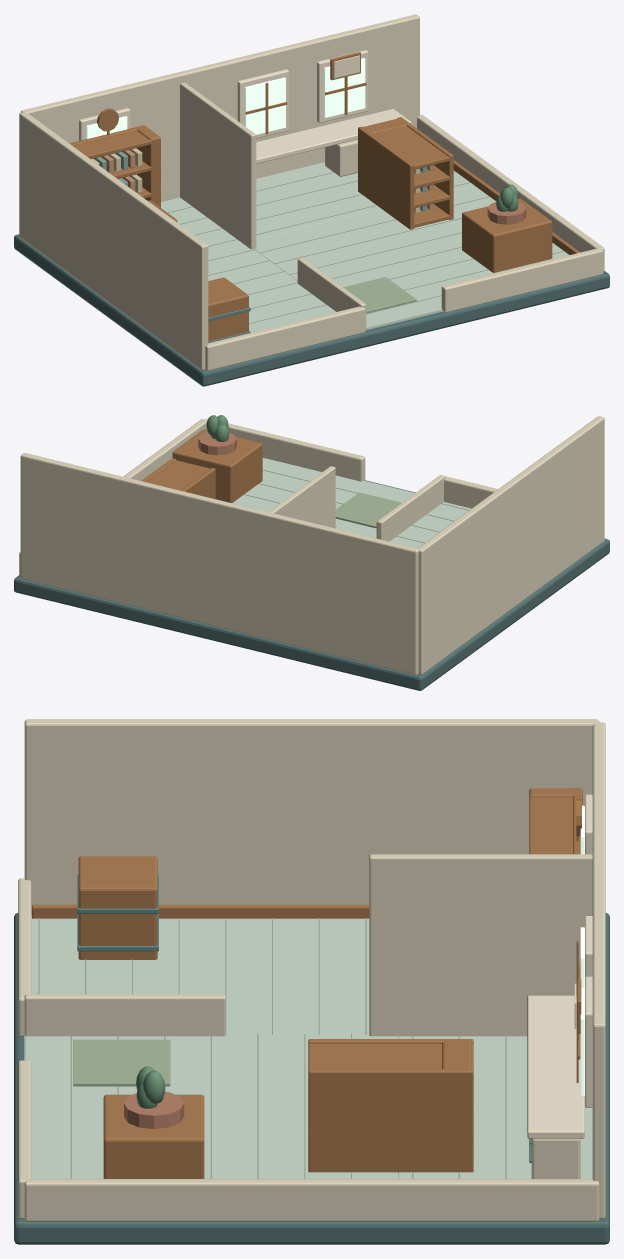
Rendered from interior-grocery.glb.
The picture shows the model from 3 angles, top to bottom: view 1: azimuth 30°, elevation 25°; view 2: azimuth 150°, elevation 25°; view 3: azimuth 270°, elevation 25°; orthographic projection. The views are drawn at different scales.
Visible parts, largest first — view 1: Surface Warm plaster, Surface Tile, Surface Honey oak, Interior plinth, Surface Linen, Surface Daylight, Surface Floor seam, Welcome rug, Pot, Surface Book2, Surface Book1; view 2: Surface Warm plaster, Interior plinth, Surface Tile, Surface Honey oak, Welcome rug, Pot, Surface Houseplant, Surface Floor seam; view 3: Surface Warm plaster, Surface Tile, Surface Honey oak, Interior plinth, Surface Linen, Welcome rug, Surface Floor seam, Pot, Surface Steel, Surface Houseplant, Surface Daylight.
Part boxes in pixels (x1,y1,x2,y2): Surface Warm plaster: (19, 14, 604, 370); Surface Tile: (161, 162, 569, 332); Surface Honey oak: (69, 52, 580, 341); Interior plinth: (14, 234, 609, 386); Surface Linen: (79, 50, 411, 163); Surface Daylight: (86, 58, 365, 138); Surface Floor seam: (167, 171, 564, 328); Welcome rug: (343, 277, 416, 313); Pot: (487, 201, 526, 224); Surface Book2: (91, 148, 420, 212); Surface Book1: (101, 150, 434, 209); Surface Warm plaster: (19, 416, 604, 675); Interior plinth: (14, 488, 609, 690); Surface Tile: (232, 458, 471, 548); Surface Honey oak: (141, 429, 262, 502); Welcome rug: (335, 492, 401, 528); Pot: (198, 432, 236, 455); Surface Houseplant: (206, 415, 228, 441); Surface Floor seam: (244, 469, 469, 543); Surface Warm plaster: (18, 719, 605, 1221); Surface Tile: (25, 915, 592, 1178); Surface Honey oak: (32, 788, 582, 1178); Interior plinth: (14, 913, 609, 1244); Surface Linen: (527, 794, 592, 1138); Welcome rug: (73, 1039, 170, 1086); Surface Floor seam: (24, 918, 506, 1178); Pot: (124, 1091, 184, 1129); Surface Steel: (77, 875, 531, 1162); Surface Houseplant: (136, 1066, 165, 1108); Surface Daylight: (580, 805, 584, 1096).
Bounding box in the file's own units: 10.3 × 3.33 × 8.3.
